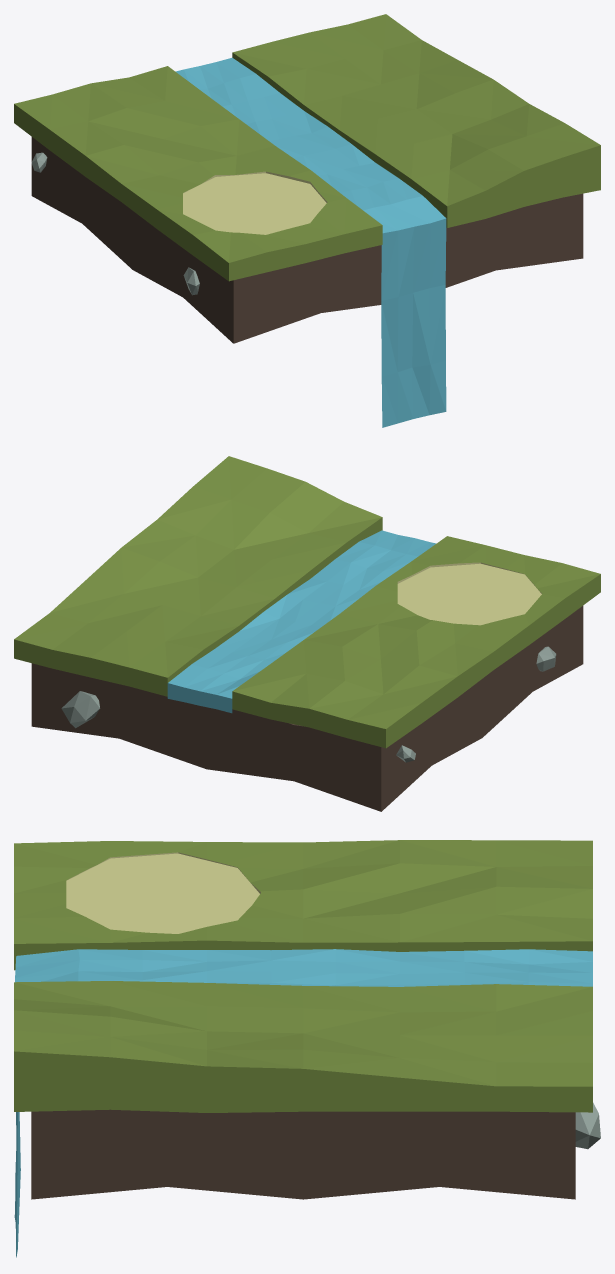
File: world-forest.fbx
The picture shows the model from 3 angles, top to bottom: view 1: azimuth 30°, elevation 25°; view 2: azimuth 150°, elevation 25°; view 3: azimuth 270°, elevation 25°; orthographic projection. The views are drawn at different scales.
Parts seen in each view (by area): view 1: world-forest; view 2: world-forest; view 3: world-forest.
Part boxes in pixels (bbox=[...]): world-forest: bbox=[14, 14, 600, 427]; world-forest: bbox=[14, 456, 600, 811]; world-forest: bbox=[14, 840, 600, 1257].
Size of the model in its own units: 20.23 by 11.8 by 20.28.
